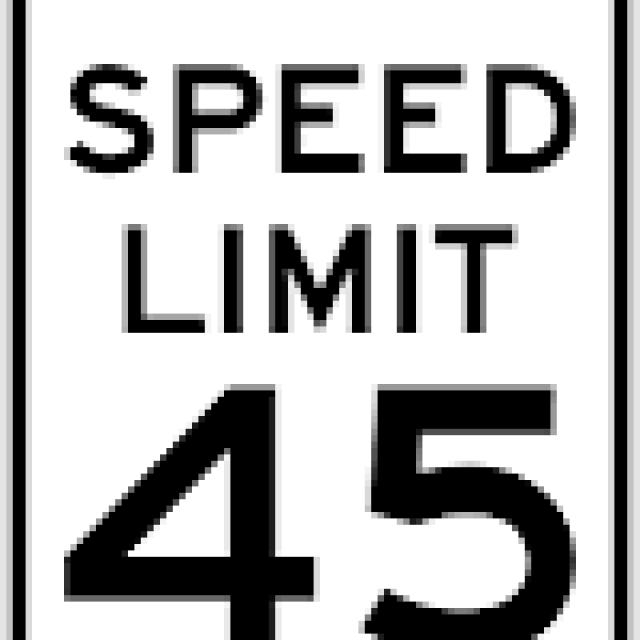speedLimit45: (6, 6, 628, 634)
